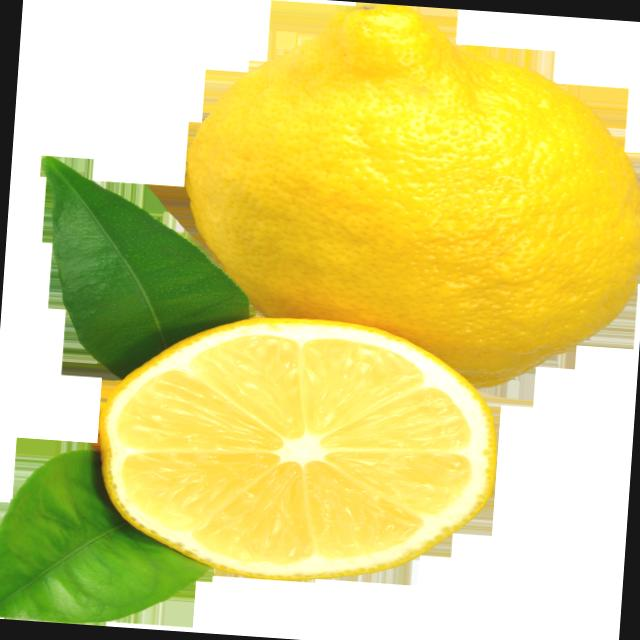lemon: (160, 0, 640, 414), (80, 303, 524, 596)
